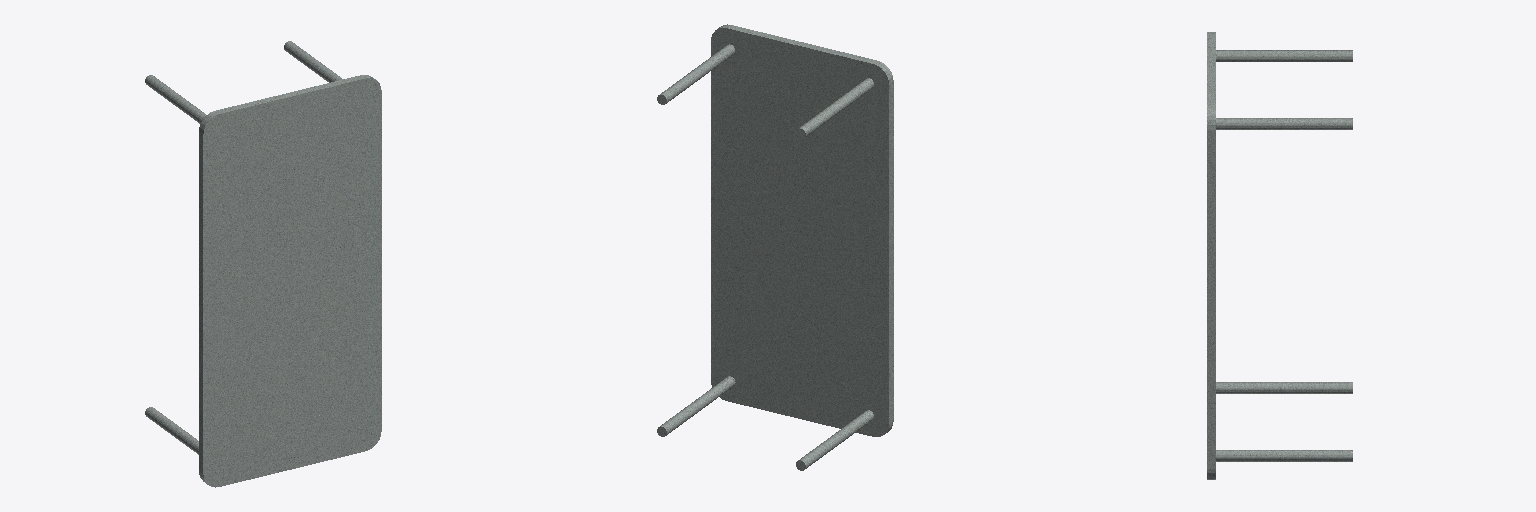
3 renders of one model, left to right at view 1: azimuth 30°, elevation 25°; view 2: azimuth 150°, elevation 25°; view 3: azimuth 270°, elevation 25°, orthographic.
Parts seen in each view (by area): view 1: Table; view 2: Table; view 3: Table.
Boxes of the visible parts, box(x1,y1,x2,y2) form: Table: box(145, 41, 381, 487); Table: box(657, 24, 893, 470); Table: box(1207, 32, 1352, 479).
Bounding box in the file's own units: 0.9 × 1.8 × 0.64.
Materials: 1 (1 with a texture image).